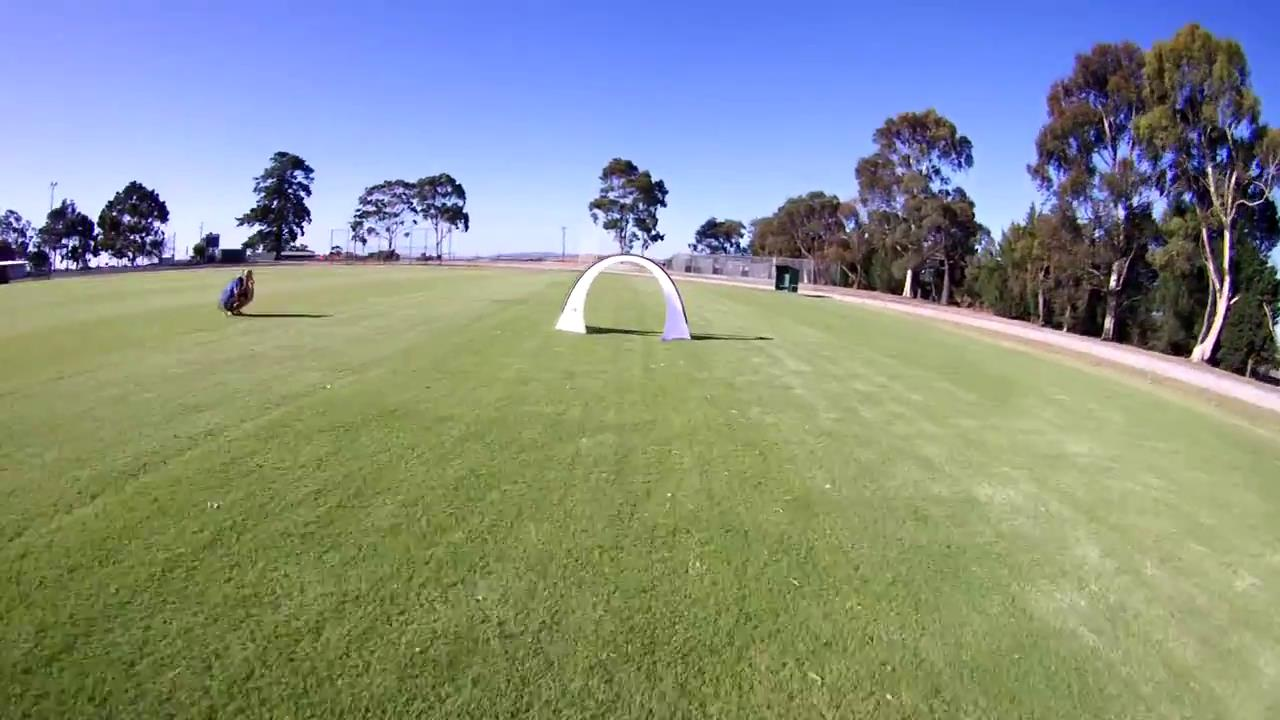gate: (551, 252, 695, 344)
